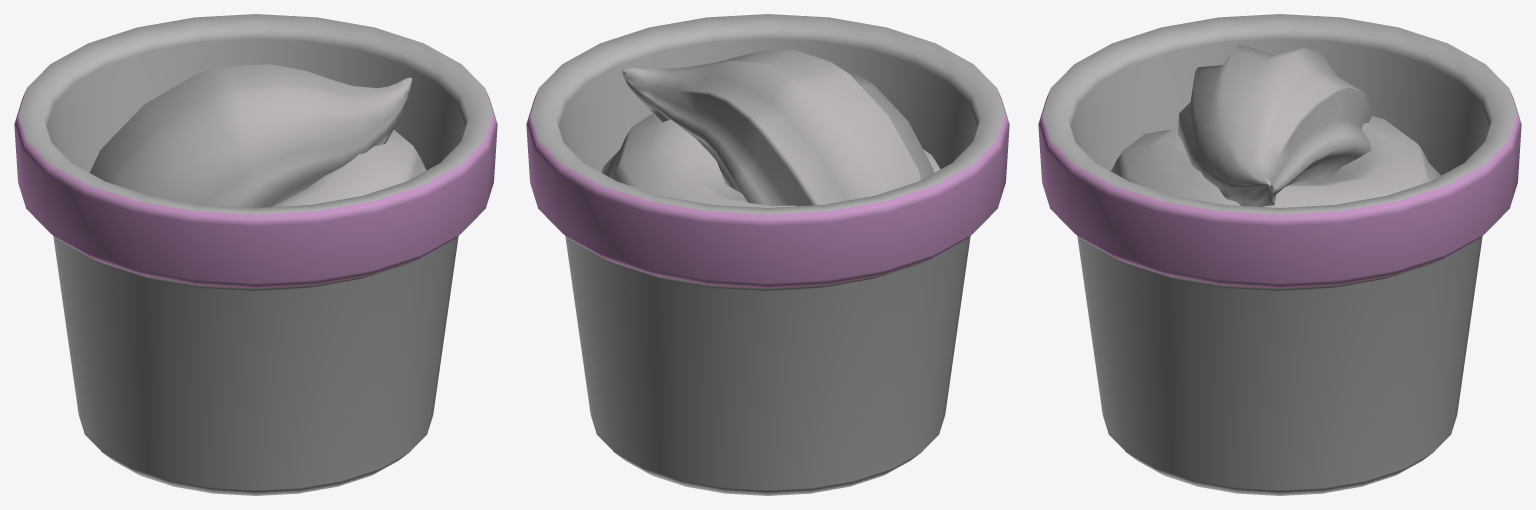
The model's file is pi_cocotteplate06_whippedcream.gltf.
3 views of the same model, side by side, from view 1: azimuth 30°, elevation 25°; view 2: azimuth 150°, elevation 25°; view 3: azimuth 270°, elevation 25° (orthographic).
Parts seen in each view (by area): view 1: um_pi_cocotteplate06_whippedcream_model_pi_cocotteplate06_wh (×2); view 2: um_pi_cocotteplate06_whippedcream_model_pi_cocotteplate06_wh (×2); view 3: um_pi_cocotteplate06_whippedcream_model_pi_cocotteplate06_wh (×2).
Boxes of the visible parts, bbox=[...] form: um_pi_cocotteplate06_whippedcream_model_pi_cocotteplate06_wh (×2): bbox=[14, 14, 497, 495]; um_pi_cocotteplate06_whippedcream_model_pi_cocotteplate06_wh (×2): bbox=[526, 14, 1009, 495]; um_pi_cocotteplate06_whippedcream_model_pi_cocotteplate06_wh (×2): bbox=[1038, 14, 1521, 495].
Size of the model in its own units: 0.0797 by 0.0659 by 0.0797.
2 materials, 2 textured.
